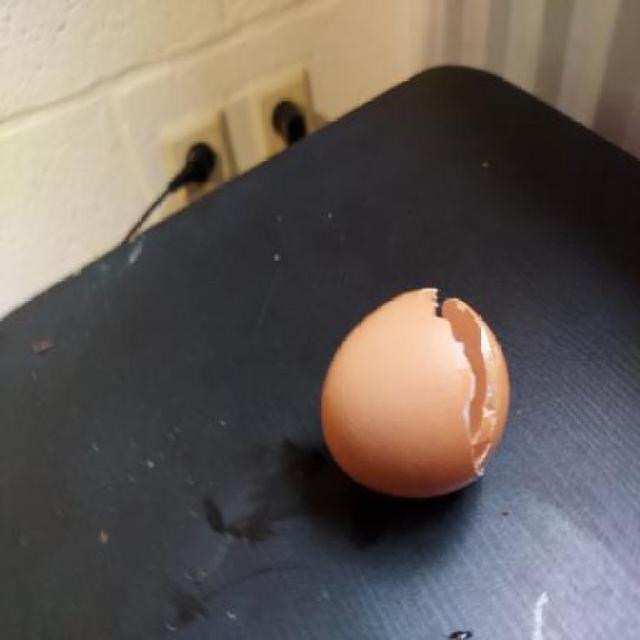biodegradable: (317, 288, 511, 503)
